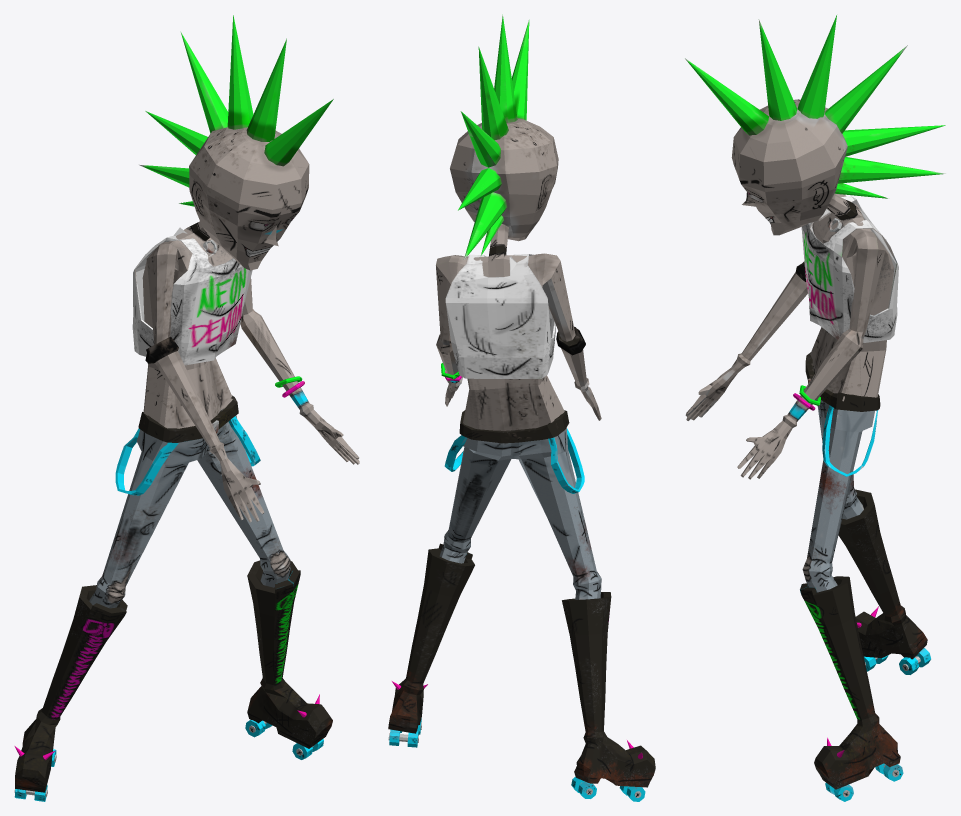
The model's file is punkAnimation_000149.obj.
The picture shows the model from 3 angles, left to right: view 1: azimuth 30°, elevation 25°; view 2: azimuth 150°, elevation 25°; view 3: azimuth 270°, elevation 25°; orthographic projection. The views are drawn at different scales.
Visible parts, largest first — view 1: Cube.004_Cube.003; view 2: Cube.004_Cube.003; view 3: Cube.004_Cube.003.
Part boxes in pixels (bbox=[...]): Cube.004_Cube.003: bbox=[14, 15, 359, 801]; Cube.004_Cube.003: bbox=[388, 14, 655, 801]; Cube.004_Cube.003: bbox=[685, 15, 945, 801].
Bounding box in the file's own units: 3.02 × 7.36 × 2.34.
